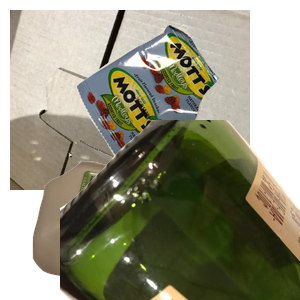cardboard: (10, 10, 250, 190)
glass: (60, 120, 300, 300)
plastic: (30, 159, 247, 300)
trash: (74, 22, 300, 185)
